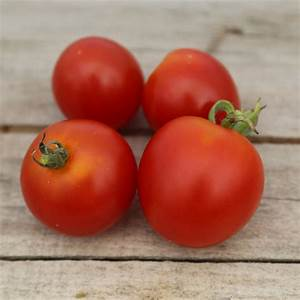tomato: (140, 115, 267, 246), (26, 119, 138, 233), (49, 33, 145, 127), (150, 45, 241, 119)
